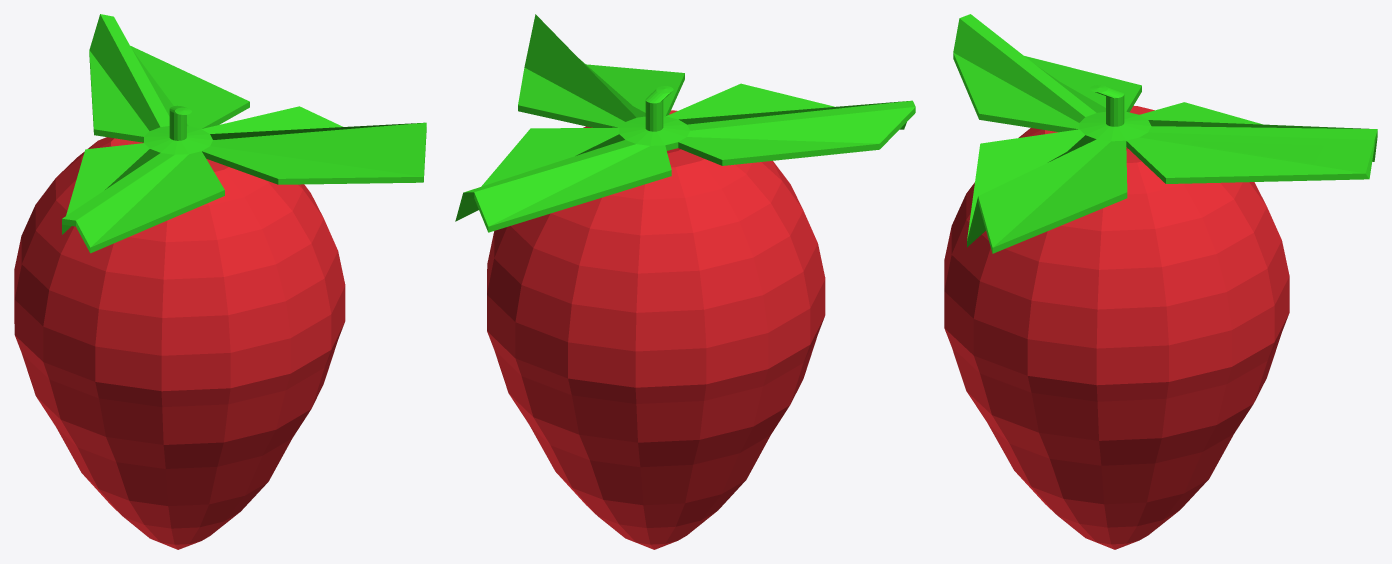
File: Strawberry.glb
3 renders of one model, left to right at view 1: azimuth 30°, elevation 25°; view 2: azimuth 150°, elevation 25°; view 3: azimuth 270°, elevation 25°, orthographic. The views are drawn at different scales.
Visible parts, largest first — view 1: Sphere; view 2: Sphere; view 3: Sphere.
Part boxes in pixels (<box>): Sphere: <box>14,14,426,549</box>; Sphere: <box>455,14,915,549</box>; Sphere: <box>944,14,1377,549</box>.
Size of the model in its own units: 1.97 by 2.25 by 1.92.
